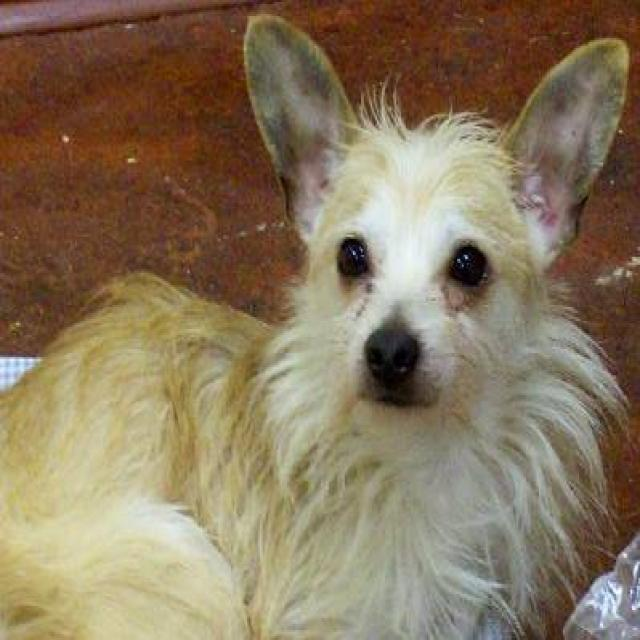dog: (0, 10, 635, 638)
